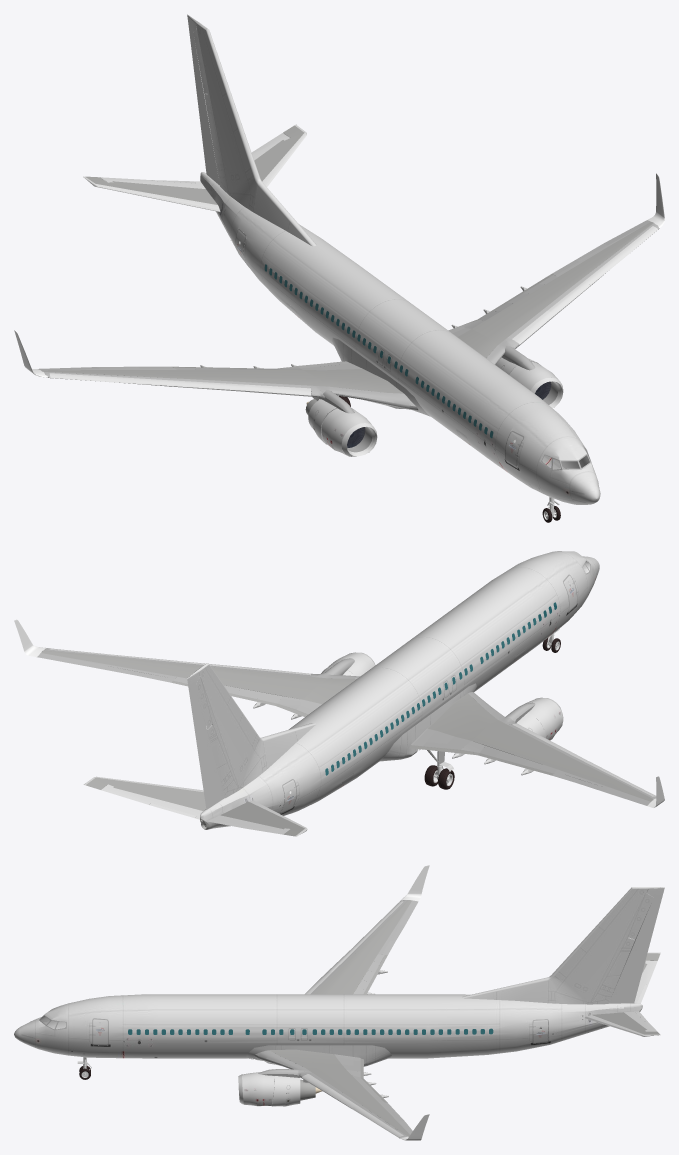
3 views of the same model, one above another, from view 1: azimuth 30°, elevation 25°; view 2: azimuth 150°, elevation 25°; view 3: azimuth 270°, elevation 25° (orthographic). The views are drawn at different scales.
Visible parts, largest first — view 1: body, stab, fin, wing_left_outer, wing_right_outer, wing_right_inner, wing_left_inner; view 2: body, stab, fin, wing_left_outer, wing_right_outer, wing_left_inner, wing_right_inner, gear_retract_right, flap_right; view 3: body, fin, stab, wing_right_outer, wing_left_inner, wing_left_outer, wing_right_inner.
Boxes of the visible parts, x1,y1,x2,y2 form: body: [196, 172, 600, 504]; stab: [83, 124, 346, 287]; fin: [187, 14, 316, 246]; wing_left_outer: [533, 173, 664, 309]; wing_right_outer: [14, 330, 231, 390]; wing_right_inner: [200, 365, 333, 434]; wing_left_inner: [472, 286, 561, 361]; body: [195, 551, 599, 829]; stab: [83, 715, 356, 836]; fin: [187, 663, 315, 809]; wing_left_outer: [14, 619, 230, 683]; wing_right_outer: [533, 746, 664, 807]; wing_left_inner: [216, 666, 329, 703]; wing_right_inner: [472, 714, 560, 775]; gear_retract_right: [424, 750, 454, 789]; flap_right: [409, 745, 553, 775]; body: [14, 979, 642, 1106]; fin: [462, 887, 664, 1004]; stab: [446, 952, 660, 1036]; wing_right_outer: [333, 865, 429, 967]; wing_left_inner: [273, 1067, 388, 1106]; wing_left_outer: [331, 1093, 429, 1140]; wing_right_inner: [305, 965, 387, 994].
Bounding box in the file's own units: 35.69 × 12.93 × 39.42.
61 materials, 18 textured.
